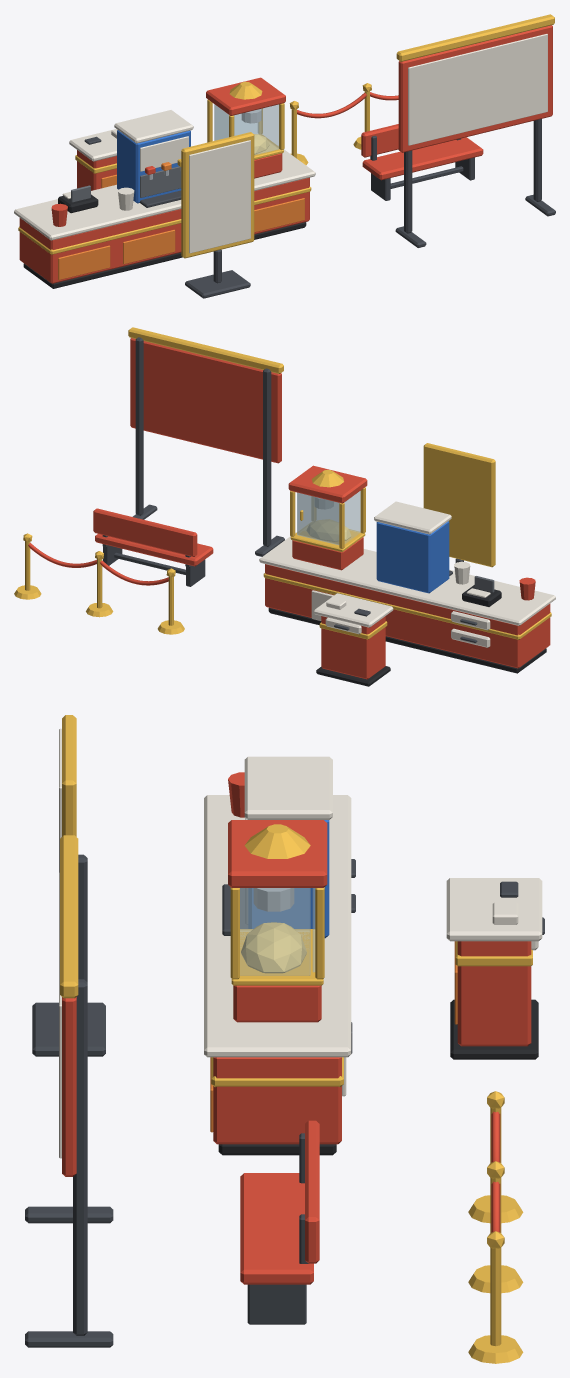
Rendered from cinema-lobby-set.glb.
3 renders of one model, top to bottom at view 1: azimuth 30°, elevation 25°; view 2: azimuth 150°, elevation 25°; view 3: azimuth 270°, elevation 25°, orthographic. The views are drawn at different scales.
Parts seen in each view (by area): view 1: Menu_Blank, Poster_Blank, Counter_Body, Counter_Top, Menu_Frame, Bench_Seat, Poster_Frame, Popcorn_Glass, Menu_Header, Drinks_Body, Drinks_Top, Popcorn_Roof (+21 smaller); view 2: Menu_Frame, Counter_Body, Poster_Frame, Counter_Top, Drinks_Body, Podium_Body, Bench_Back, PopcornDoor, Menu_Header, Popcorn_Glass, Menu_Post_R, Menu_Post_L (+12 smaller); view 3: Counter_Top, Counter_Body, Podium_Body, Bench_Seat, Popcorn_Glass, Drinks_Top, Podium_Top, Popcorn_Roof, Menu_Post_R, Popcorn_Base, Menu_Header, Menu_Frame (+23 smaller).
Boxes of the visible parts, <box> form: Menu_Blank: <box>408,34,547,145</box>; Poster_Blank: <box>189,140,250,253</box>; Counter_Body: <box>19,177,309,283</box>; Counter_Top: <box>14,145,315,240</box>; Menu_Frame: <box>398,25,552,152</box>; Bench_Seat: <box>362,137,483,180</box>; Poster_Frame: <box>181,132,254,258</box>; Popcorn_Glass: <box>214,104,278,154</box>; Menu_Header: <box>396,14,554,61</box>; Drinks_Body: <box>117,130,190,203</box>; Drinks_Top: <box>114,110,193,143</box>; Popcorn_Roof: <box>206,77,285,115</box>; Menu_Frame: <box>130,338,281,463</box>; Counter_Body: <box>265,564,550,668</box>; Poster_Frame: <box>423,443,495,567</box>; Counter_Top: <box>259,532,555,625</box>; Drinks_Body: <box>376,521,449,593</box>; Podium_Body: <box>321,616,385,679</box>; Bench_Back: <box>93,508,197,556</box>; PopcornDoor: <box>297,492,339,545</box>; Menu_Header: <box>128,327,283,373</box>; Popcorn_Glass: <box>297,491,360,543</box>; Menu_Post_R: <box>135,337,143,515</box>; Menu_Post_L: <box>263,368,271,546</box>; Counter_Top: <box>204,795,351,1057</box>; Counter_Body: <box>213,1057,341,1144</box>; Podium_Body: <box>457,941,531,1046</box>; Bench_Seat: <box>240,1173,313,1284</box>; Popcorn_Glass: <box>240,888,310,975</box>; Drinks_Top: <box>244,756,332,819</box>; Podium_Top: <box>446,878,542,941</box>; Popcorn_Roof: <box>228,820,327,887</box>; Menu_Post_R: <box>73,979,87,1335</box>; Popcorn_Base: <box>233,985,321,1022</box>; Menu_Header: <box>60,835,78,998</box>; Menu_Frame: <box>62,997,76,1176</box>.
Bounding box in the file's own units: 29.36 × 11.2 × 14.12.
